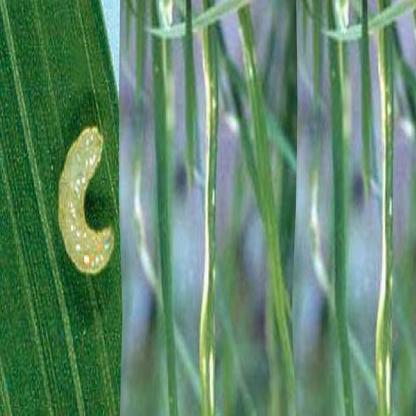whorl-maggot: (54, 122, 117, 282)
